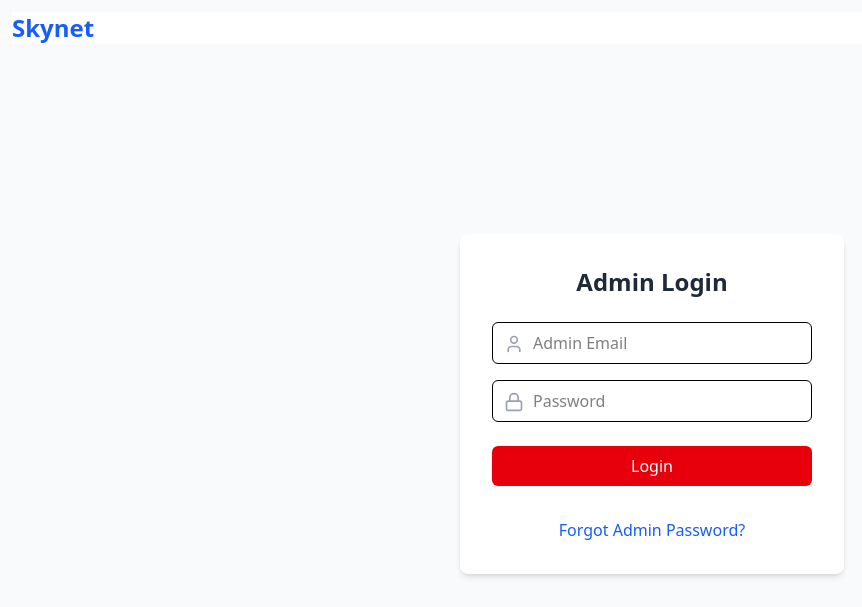
it: AdminLogin Component › displays error message when login fails with server message
// Fill out and submit form
Type "admin@example.com" into the field with placeholder "Admin Email" at (652, 343), box [492,322,812,364]
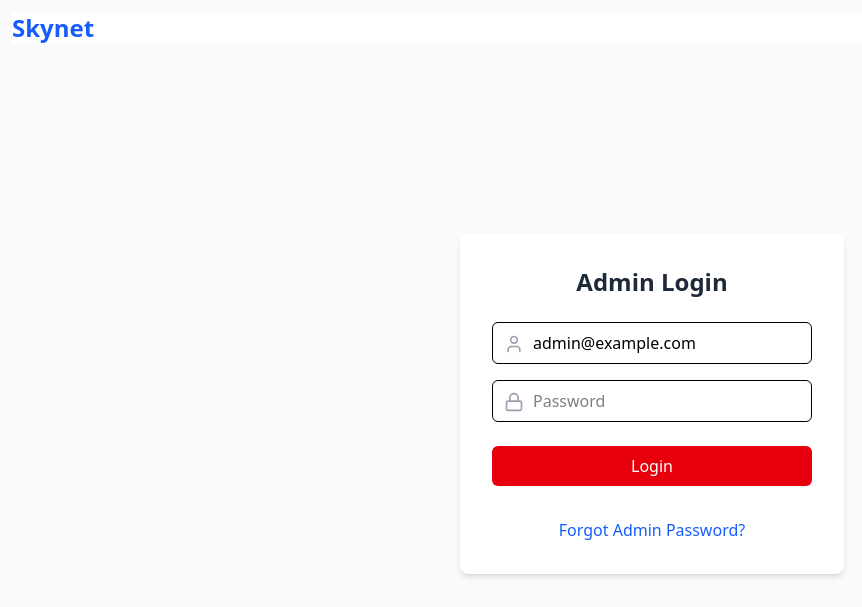
Type "wrongpassword" into the password field with placeholder "Password" at (652, 401), box [492,380,812,422]
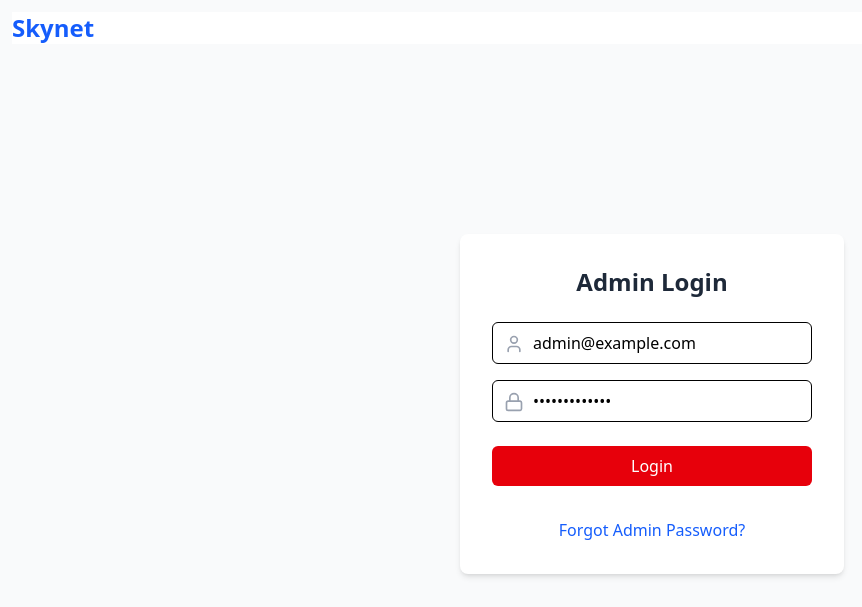
Click the button "Login" at (652, 466), box [492,446,812,486]
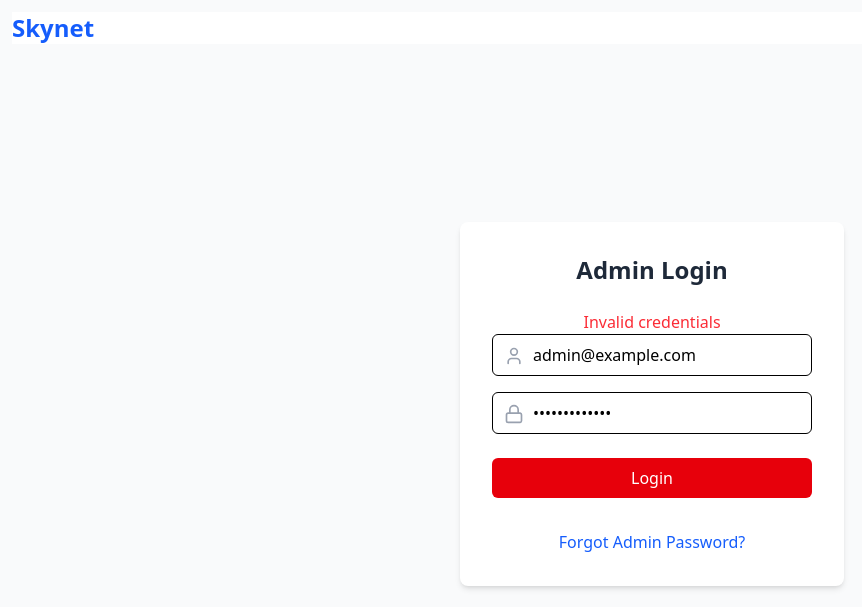
Now the text "Invalid credentials" is shown, box [584,311,721,333]
